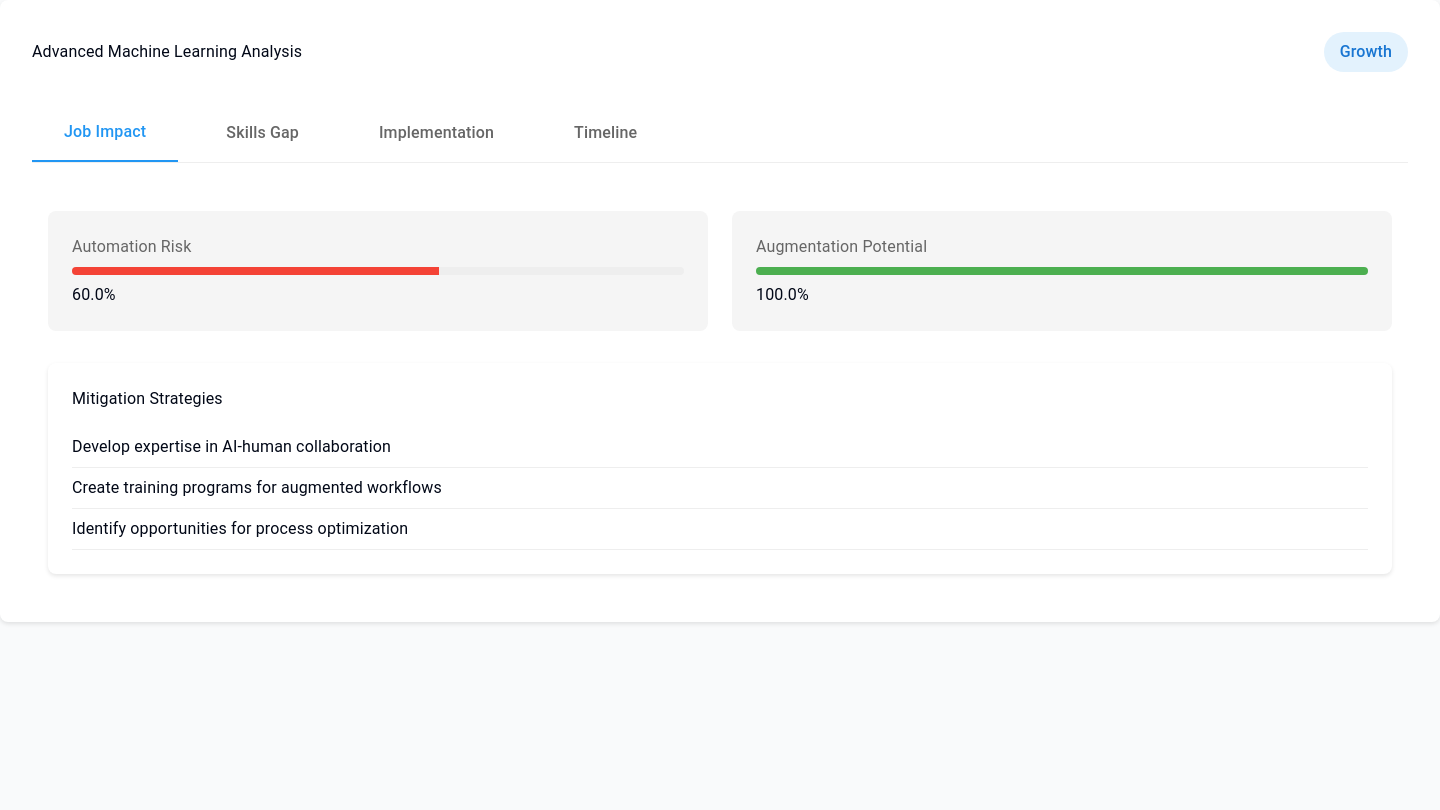
EmergingTechAnalysis Component › displays training needs in skills gap section
Click the button "Skills Gap". click: [263, 133]
box: [194,104,331,162]
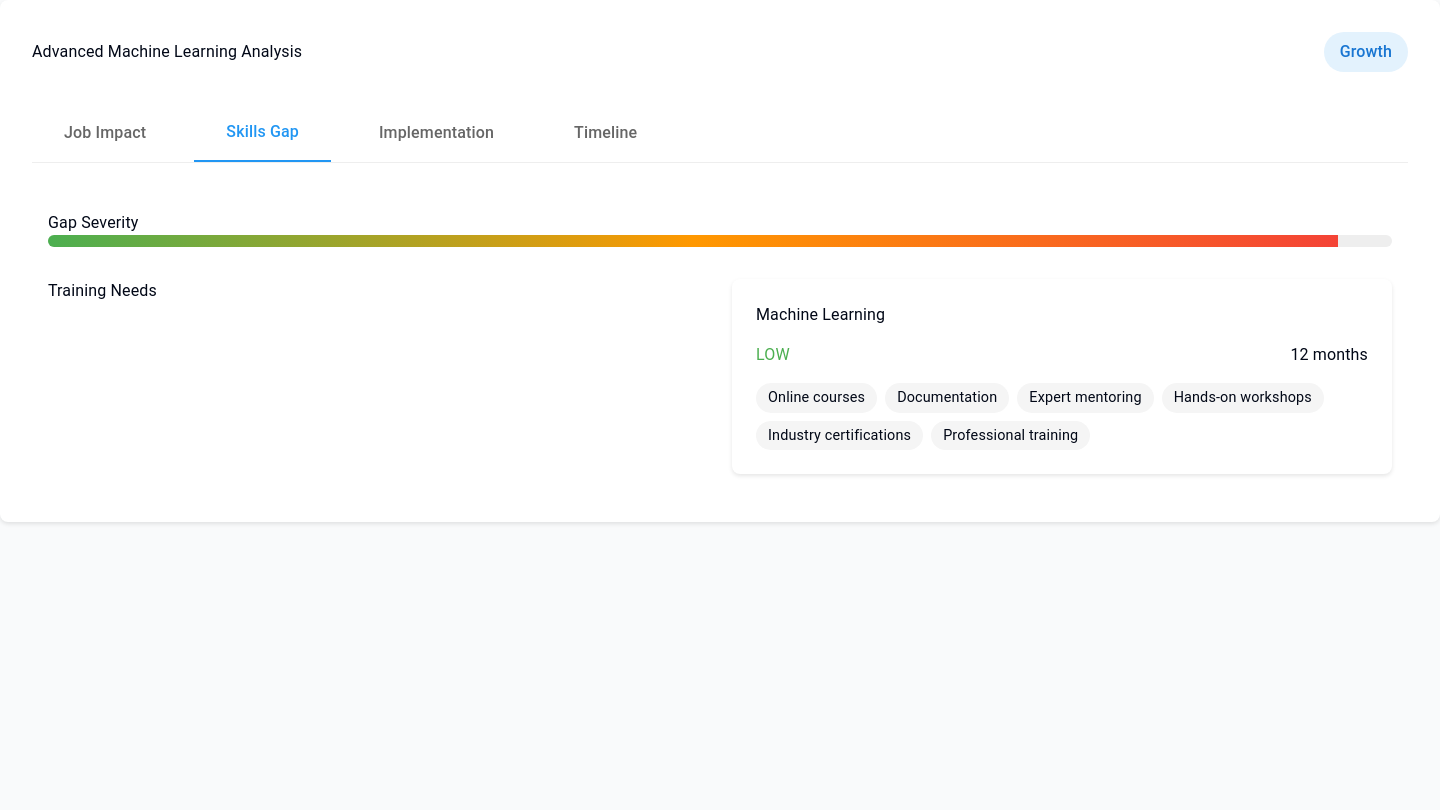
Now the heading "Training Needs" is shown, box [48,281,157,300]
